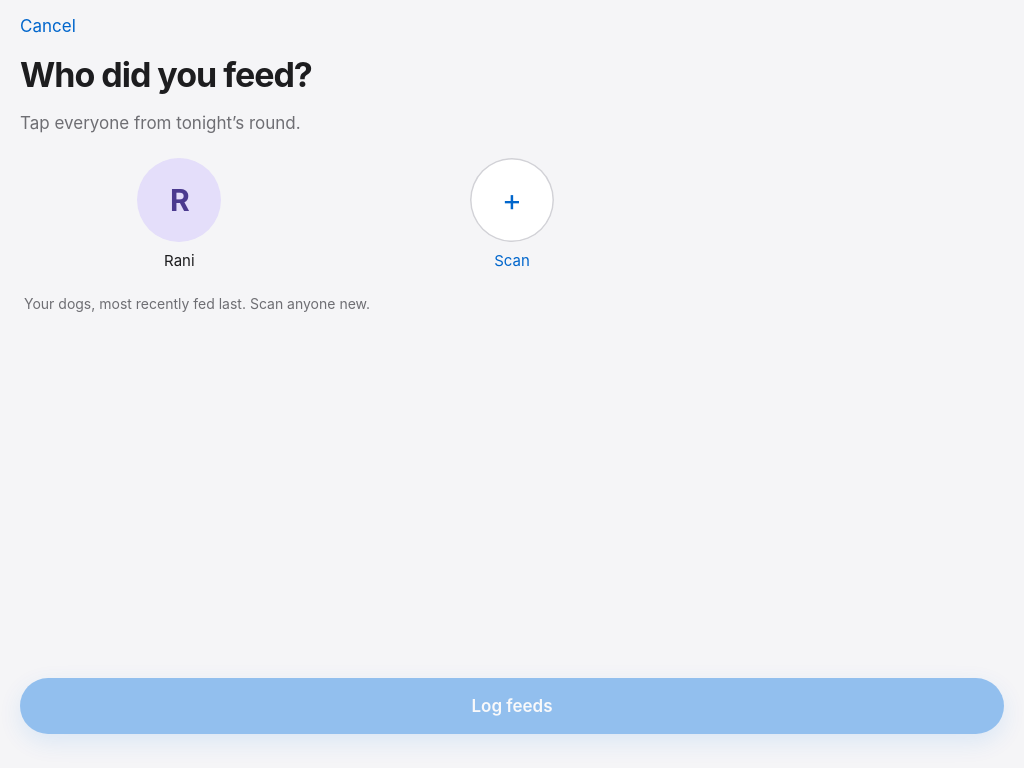
Test: V11 who did you feed › keeps the round on the phone when the network fails
Click the button "R Rani".
click(179, 215)  # box top-left (20, 154), bottom-right (339, 276)
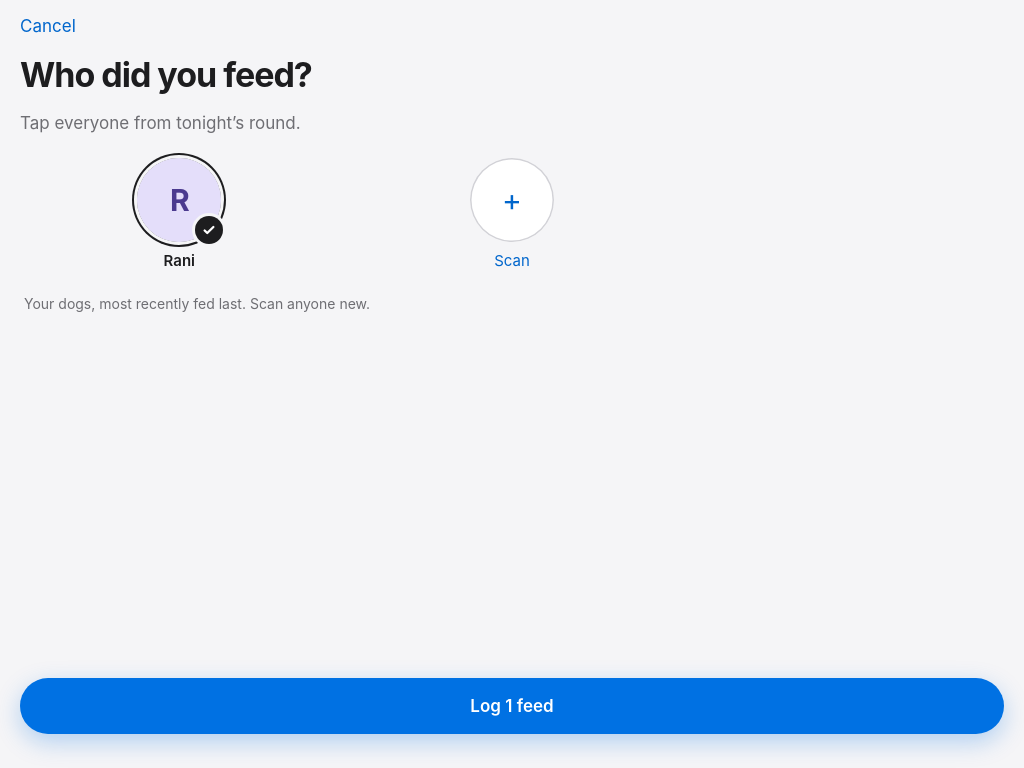
Click the button "Log 1 feed".
click(512, 706)  # box top-left (20, 678), bottom-right (1004, 734)
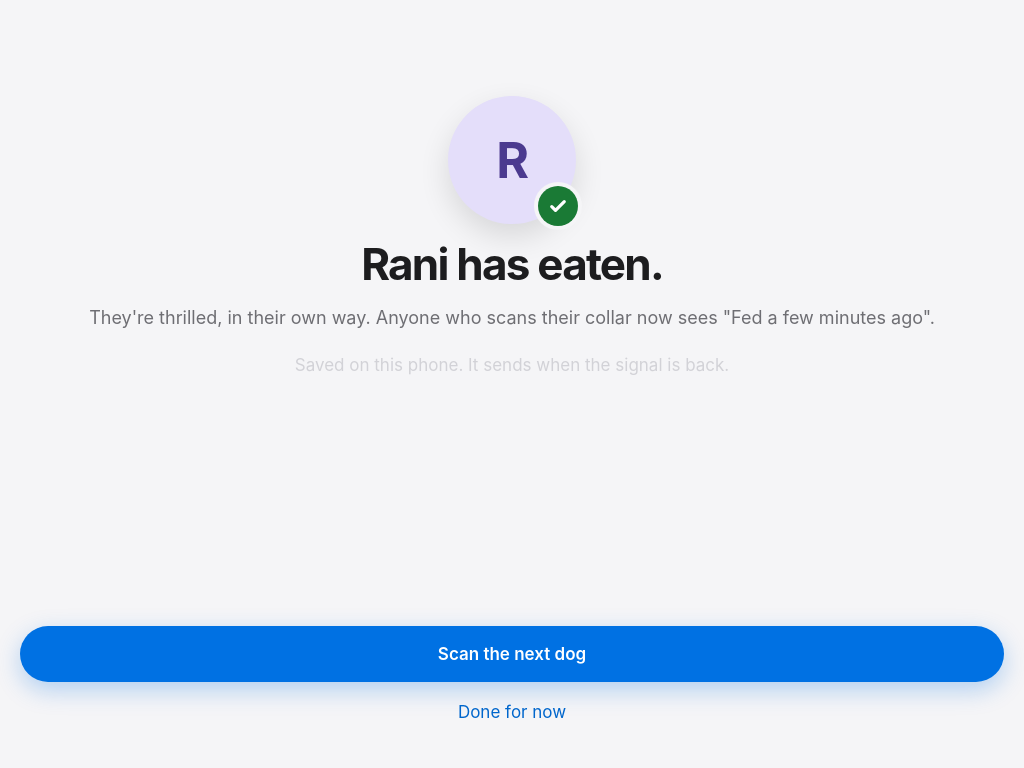
Now the text "Saved on this phone. It sends when the signal is back." is shown, box top-left (295, 353), bottom-right (729, 378)
